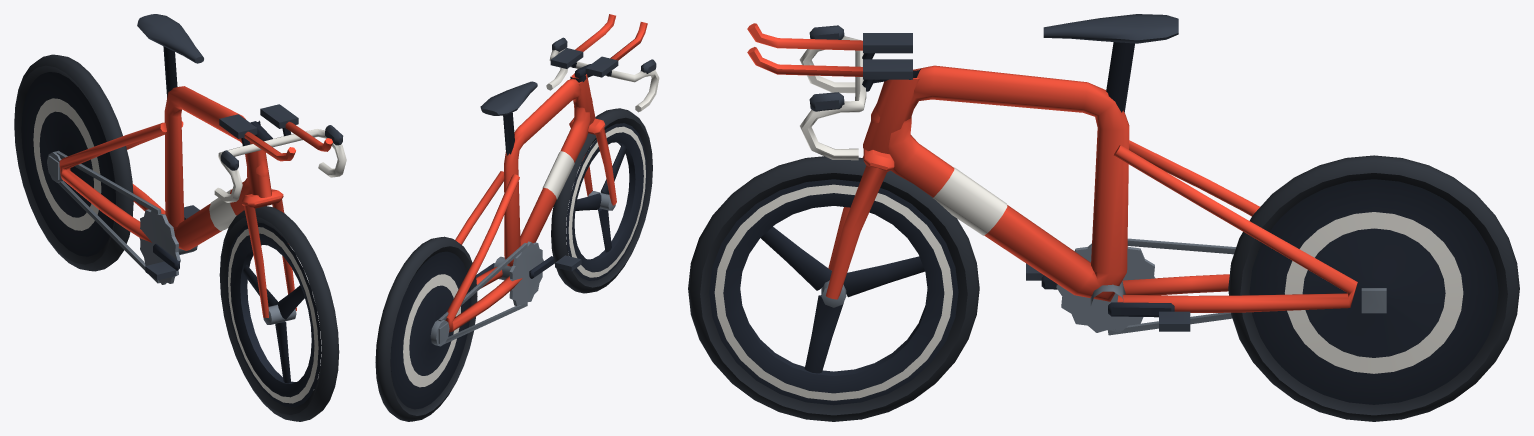
The model's file is bicycle-sprint.glb.
3 renders of one model, left to right at view 1: azimuth 30°, elevation 25°; view 2: azimuth 150°, elevation 25°; view 3: azimuth 270°, elevation 25°, orthographic. The views are drawn at different scales.
Parts seen in each view (by area): view 1: Sprint Bicycle Swift coral, Rear wheel Carbon weave, Front wheel Trail rubber, Front wheel Carbon weave, Rear wheel Trail rubber, Sprint Bicycle Graphite, Sprint Bicycle Cloud white, Rear wheel Cloud white, Front wheel Cloud white, Sprint Bicycle Gunmetal, Crank set Gunmetal, Sprint Bicycle Carbon weave (+2 smaller); view 2: Sprint Bicycle Swift coral, Rear wheel Carbon weave, Front wheel Carbon weave, Rear wheel Trail rubber, Front wheel Trail rubber, Sprint Bicycle Graphite, Sprint Bicycle Cloud white, Rear wheel Cloud white, Crank set Gunmetal, Sprint Bicycle Gunmetal, Front wheel Cloud white, Sprint Bicycle Carbon weave (+3 smaller); view 3: Sprint Bicycle Swift coral, Rear wheel Carbon weave, Front wheel Carbon weave, Rear wheel Trail rubber, Front wheel Trail rubber, Rear wheel Cloud white, Sprint Bicycle Graphite, Front wheel Cloud white, Sprint Bicycle Cloud white, Crank set Gunmetal, Sprint Bicycle Gunmetal, Sprint Bicycle Carbon weave (+2 smaller).
Boxes of the visible parts, <box> form: Sprint Bicycle Swift coral: <box>59,86,332,317</box>; Rear wheel Carbon weave: <box>21,72,115,256</box>; Front wheel Trail rubber: <box>219,206,339,421</box>; Front wheel Carbon weave: <box>226,222,321,407</box>; Rear wheel Trail rubber: <box>14,54,133,271</box>; Sprint Bicycle Graphite: <box>137,14,343,170</box>; Sprint Bicycle Cloud white: <box>209,129,346,230</box>; Rear wheel Cloud white: <box>33,98,101,230</box>; Front wheel Cloud white: <box>228,227,318,403</box>; Sprint Bicycle Gunmetal: <box>48,151,197,283</box>; Crank set Gunmetal: <box>139,209,180,284</box>; Sprint Bicycle Carbon weave: <box>163,46,291,145</box>; Sprint Bicycle Swift coral: <box>445,14,647,332</box>; Rear wheel Carbon weave: <box>390,251,471,409</box>; Front wheel Carbon weave: <box>566,123,646,280</box>; Rear wheel Trail rubber: <box>375,236,477,421</box>; Front wheel Trail rubber: <box>551,108,652,293</box>; Sprint Bicycle Graphite: <box>480,37,656,115</box>; Sprint Bicycle Cloud white: <box>542,48,659,199</box>; Rear wheel Cloud white: <box>403,274,460,387</box>; Crank set Gunmetal: <box>509,241,543,306</box>; Sprint Bicycle Gunmetal: <box>438,243,527,344</box>; Front wheel Cloud white: <box>568,126,645,277</box>; Sprint Bicycle Carbon weave: <box>503,62,611,155</box>; Sprint Bicycle Swift coral: <box>747,23,1357,312</box>; Rear wheel Carbon weave: <box>1249,179,1498,404</box>; Front wheel Carbon weave: <box>709,179,958,405</box>; Rear wheel Trail rubber: <box>1228,155,1519,421</box>; Front wheel Trail rubber: <box>688,156,979,421</box>; Rear wheel Cloud white: <box>1284,212,1463,373</box>; Sprint Bicycle Graphite: <box>809,14,1178,111</box>; Front wheel Cloud white: <box>714,184,952,400</box>; Sprint Bicycle Cloud white: <box>799,36,1007,235</box>; Crank set Gunmetal: <box>1056,243,1155,332</box>; Sprint Bicycle Gunmetal: <box>1090,238,1386,335</box>; Sprint Bicycle Carbon weave: <box>862,42,1134,112</box>.
Bounding box in the file's own units: 0.412 × 1.06 × 2.
